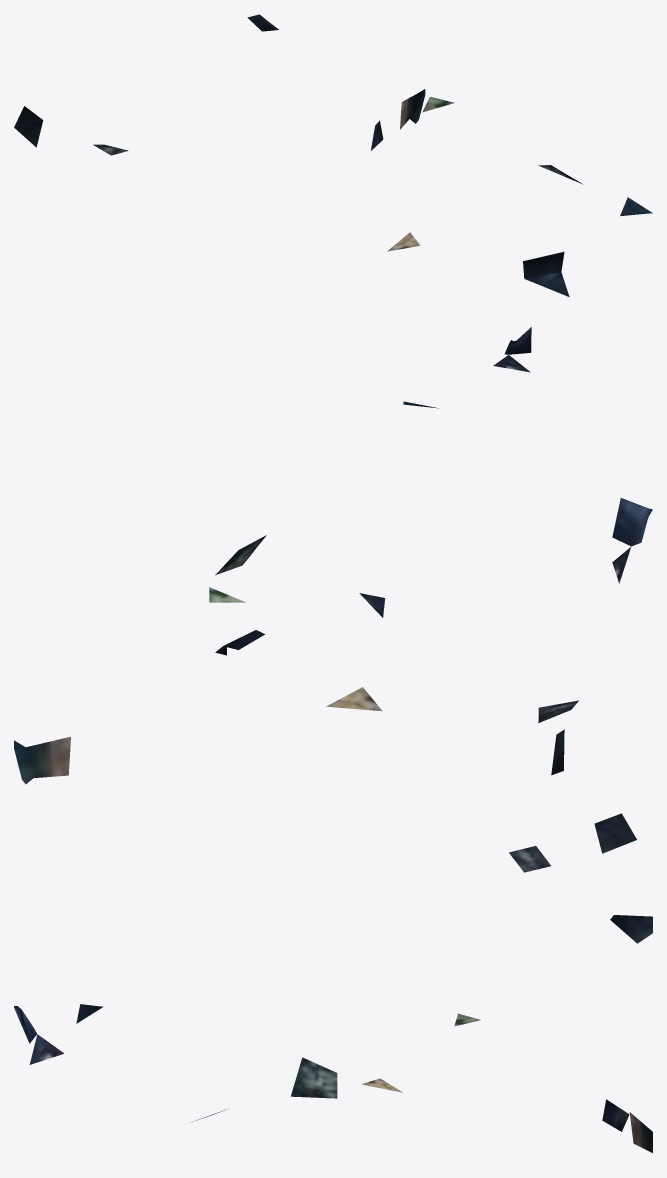
3 renders of one model, top to bottom at view 1: azimuth 30°, elevation 25°; view 2: azimuth 150°, elevation 25°; view 3: azimuth 270°, elevation 25°, orthographic. The views are drawn at different scales.
Parts seen in each view (by area): view 1: 30436272704370605610_1; view 2: 30436272704370605610_1; view 3: 30436272704370605610_1.
Part boxes in pixels (x1=…): 30436272704370605610_1: x1=14, y1=14, x2=652, y2=372; 30436272704370605610_1: x1=14, y1=401, x2=652, y2=784; 30436272704370605610_1: x1=14, y1=813, x2=652, y2=1152.
Bounding box in the file's own units: 20.56 × 6.93 × 25.3.
1 material, 1 textured.
